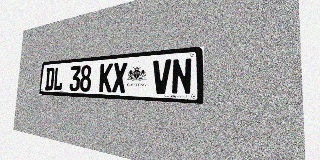3: (69, 65, 81, 91)
8: (79, 65, 92, 92)
D: (45, 67, 55, 90)
K: (99, 63, 113, 92)
L: (53, 67, 64, 91)
N: (171, 58, 192, 95)
V: (152, 59, 171, 94)
X: (112, 62, 127, 93)
